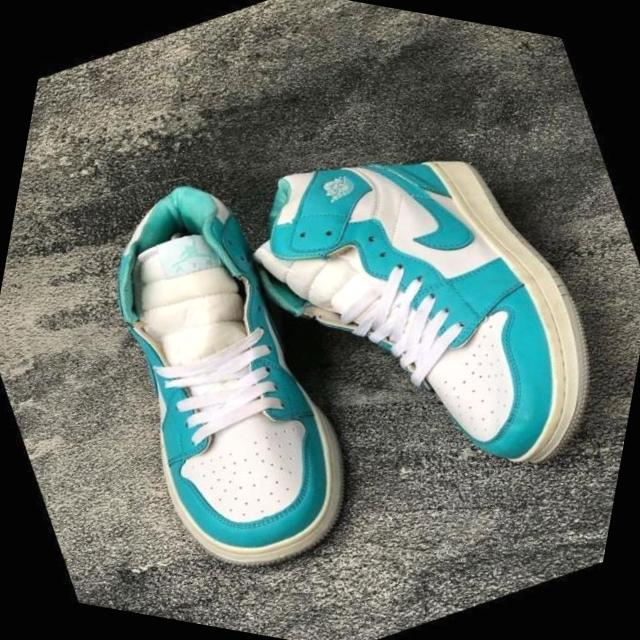nike_fake_jordan: (177, 54, 640, 575), (11, 137, 425, 618)
